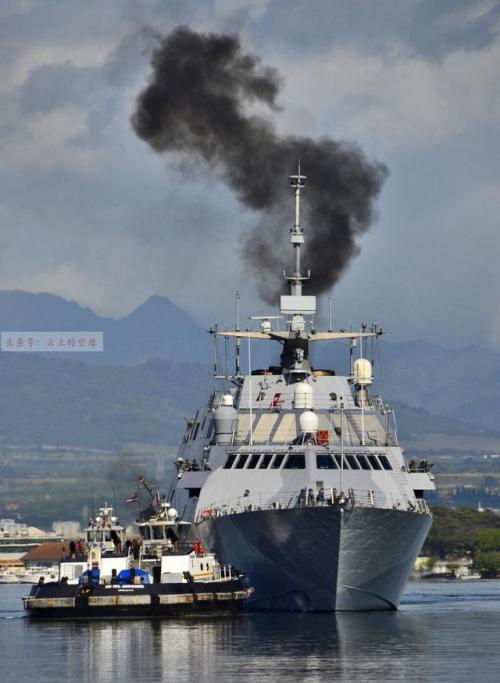smoke: (132, 24, 387, 304)
